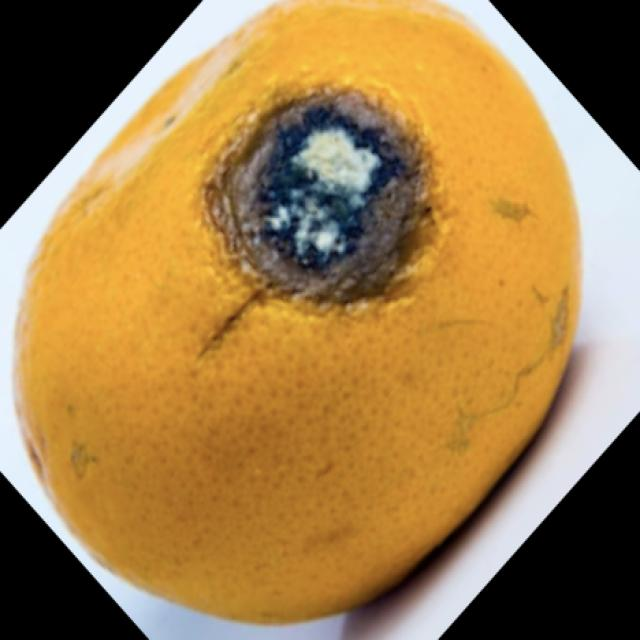sedikit_busuk: (14, 0, 579, 620)
